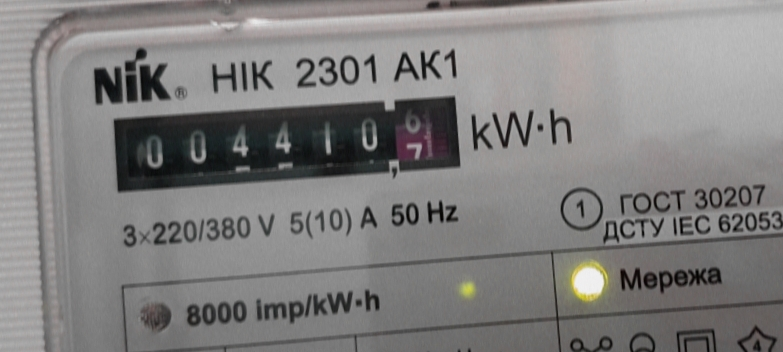0: (142, 130, 166, 170), (358, 114, 380, 152), (187, 125, 207, 164)
1: (318, 118, 335, 156)
4: (270, 117, 295, 157), (227, 119, 252, 158)
6: (404, 106, 423, 134)
7: (404, 139, 424, 160)
screen: (100, 79, 474, 205)
